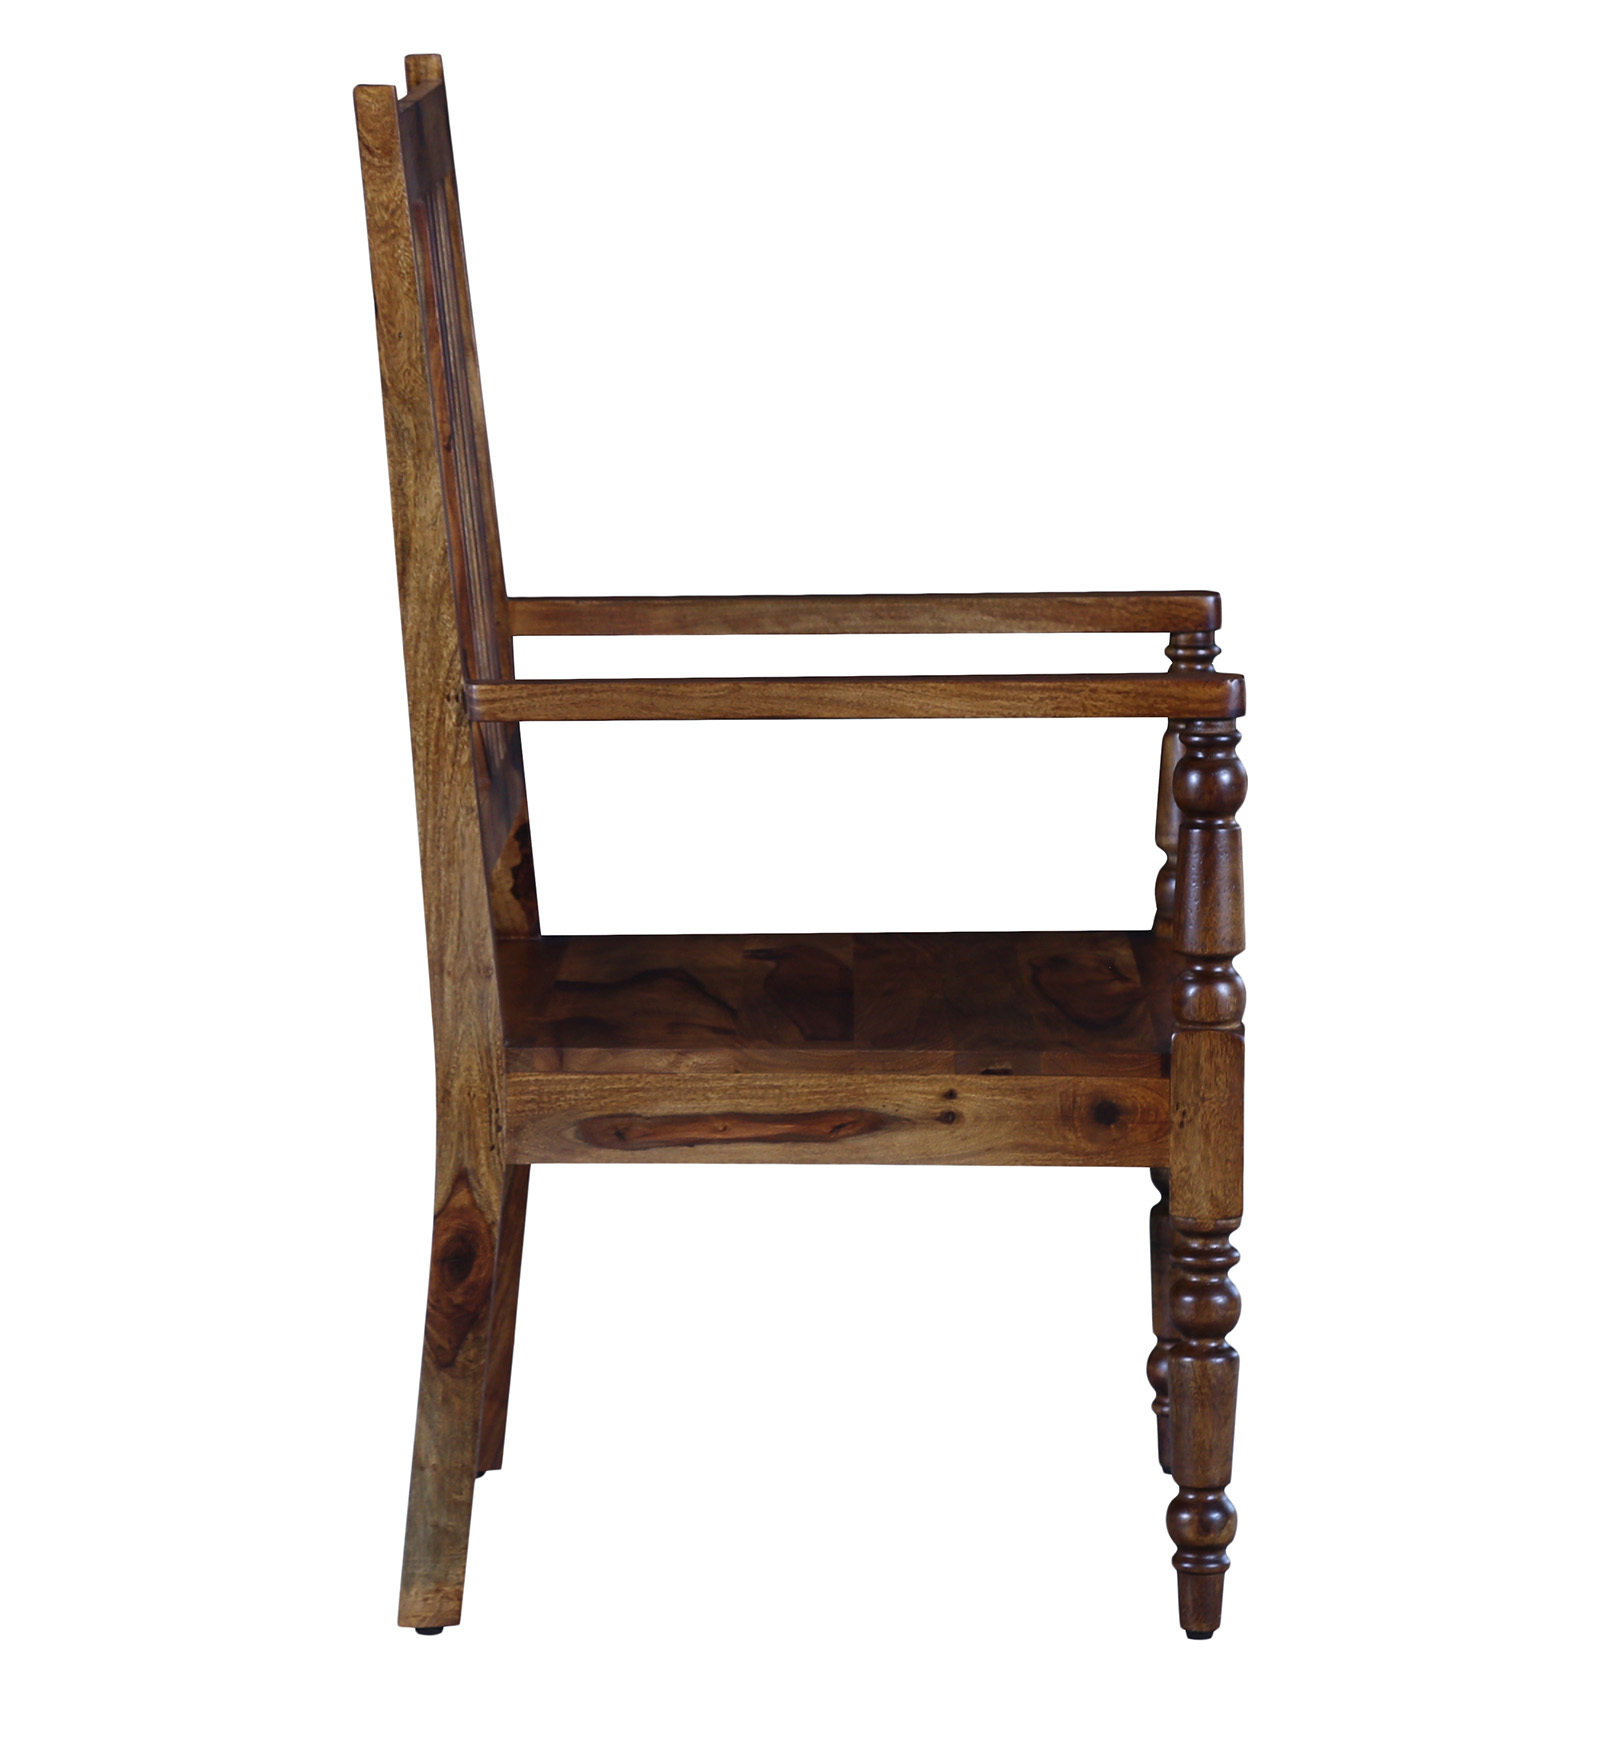Harleston Arm Chair in Provincial Teak Finish by Amberville: (250, 28, 1336, 1703)
